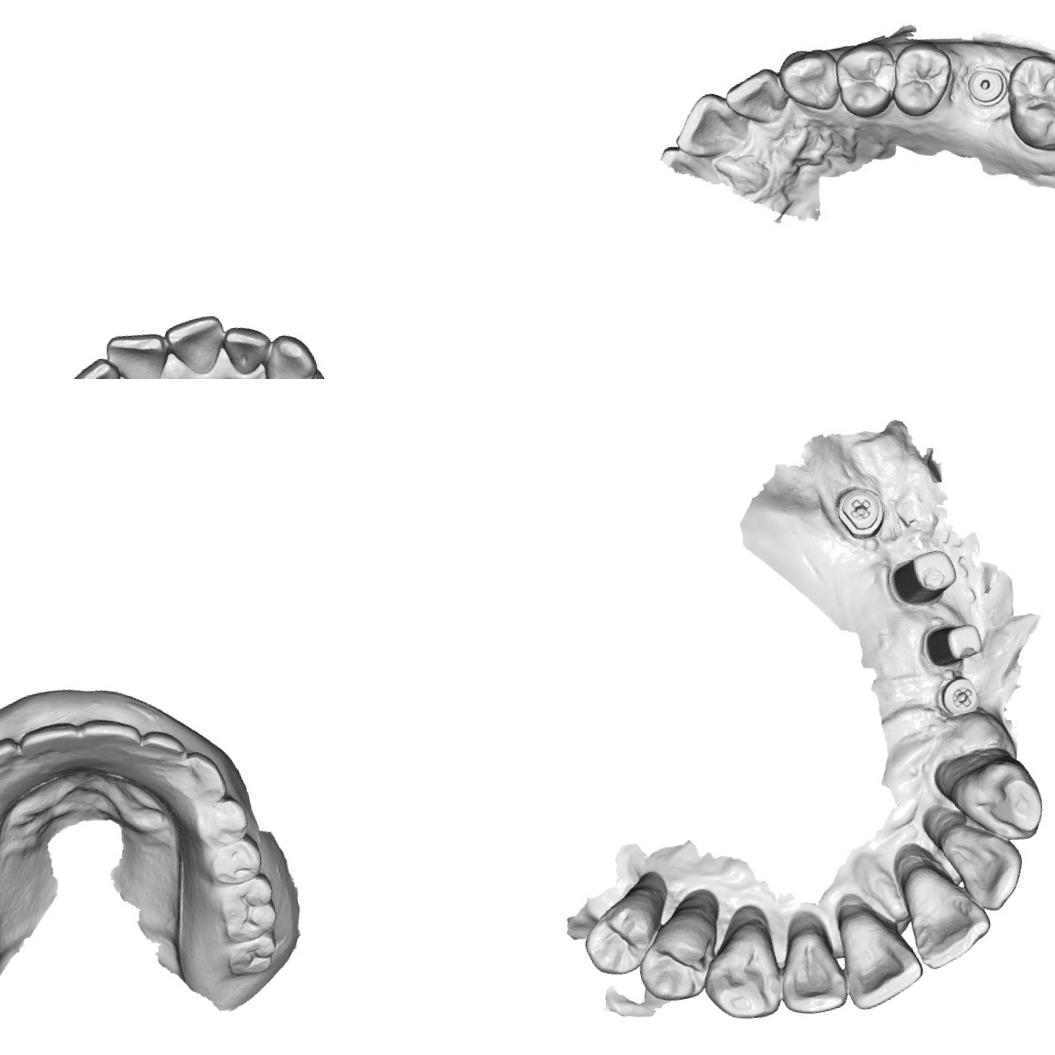abutment: (884, 544, 960, 609), (916, 616, 987, 672)
canine: (944, 754, 1046, 852), (694, 918, 784, 1027), (775, 42, 844, 117), (255, 327, 323, 379), (174, 743, 229, 803)
implant: (962, 56, 1012, 113)
implant_plus: (828, 475, 890, 539), (935, 674, 978, 717)
incisor: (898, 853, 996, 975), (832, 892, 930, 1013), (936, 813, 1031, 920), (769, 917, 850, 1020), (666, 85, 751, 164), (160, 310, 231, 379), (720, 66, 788, 127), (102, 324, 175, 379), (15, 714, 86, 766), (75, 708, 143, 760), (220, 318, 276, 378), (138, 722, 188, 766), (65, 353, 127, 379), (0, 730, 26, 785)
molar: (999, 38, 1055, 154), (209, 868, 283, 946), (217, 929, 284, 985)
premolar: (574, 893, 664, 982), (629, 920, 717, 1009), (882, 34, 961, 120), (829, 35, 906, 122), (204, 828, 268, 890), (202, 791, 251, 841)
